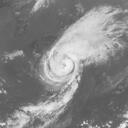cyclone: (41, 51, 80, 86)
